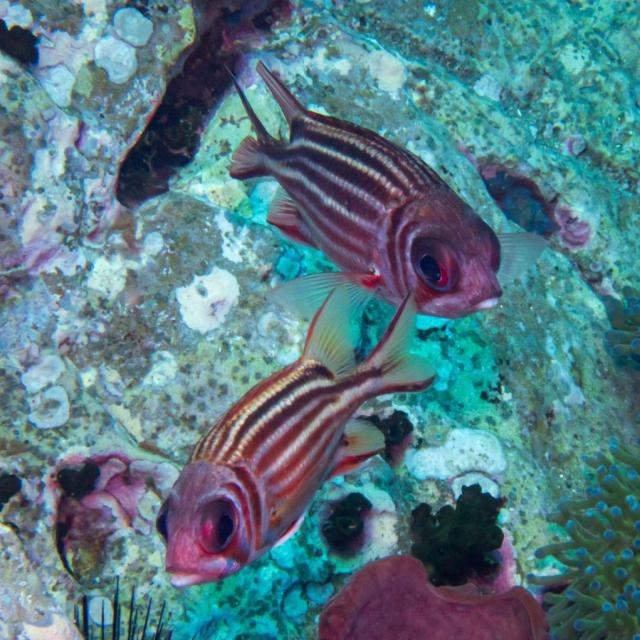Asker Baligi: (153, 284, 438, 589), (220, 57, 506, 325)
